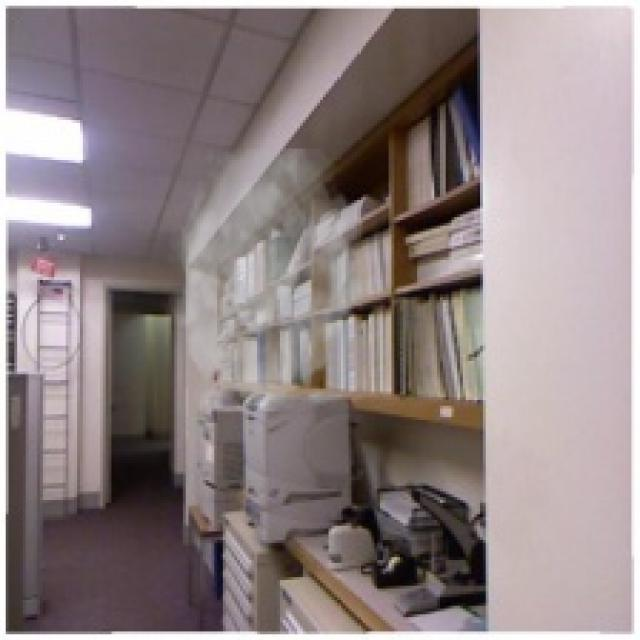smoke: (163, 148, 371, 412)
